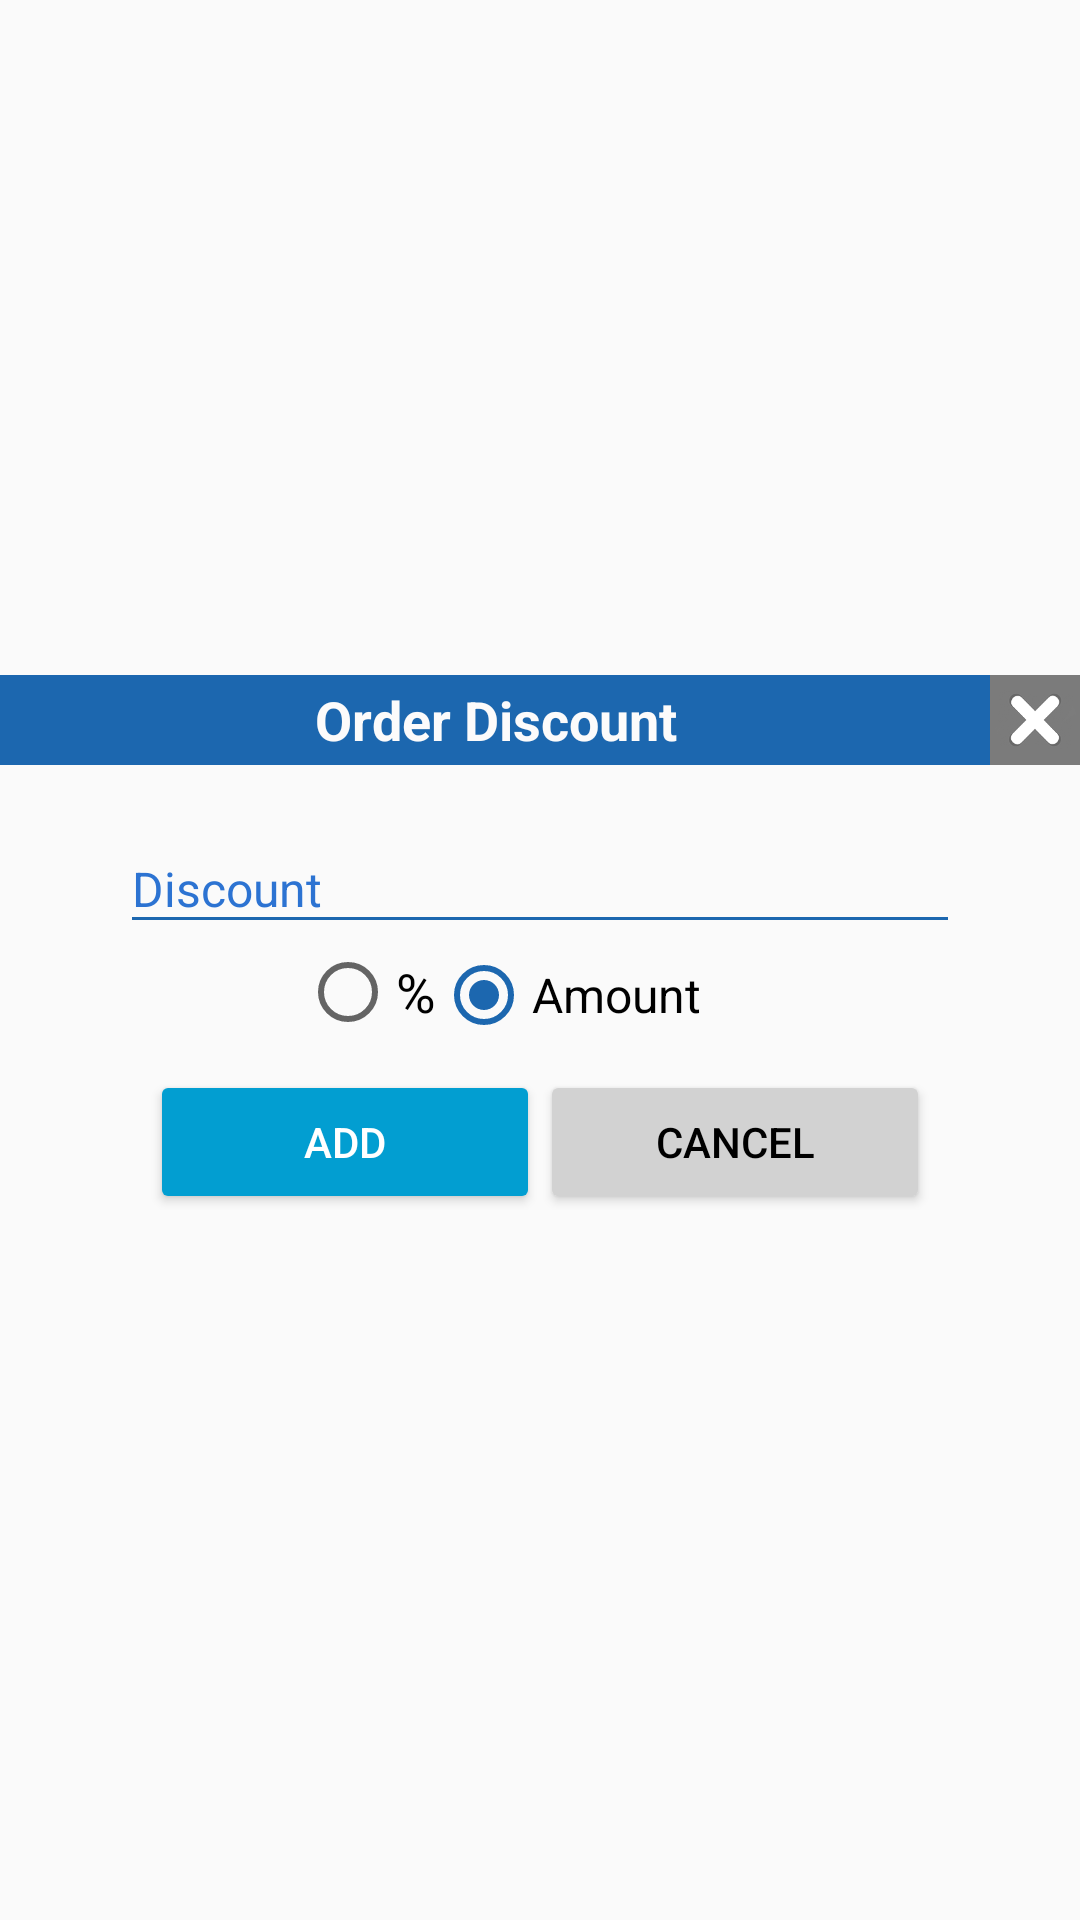

Screen size 1080px x 1920px. Icon name, then its box in pixels as bbox=(x1, y1, x2, y2):
closered: bbox=(990, 675, 1080, 765)
